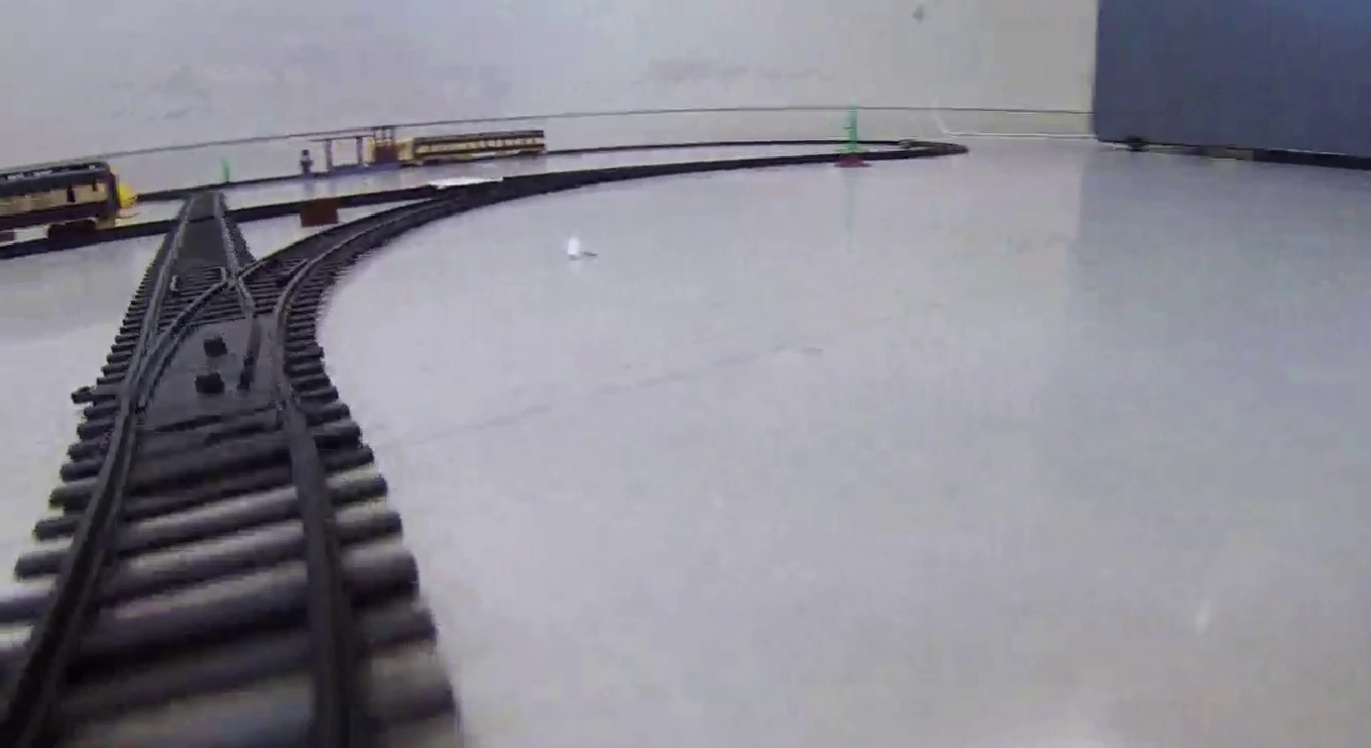box: (300, 201, 338, 224)
